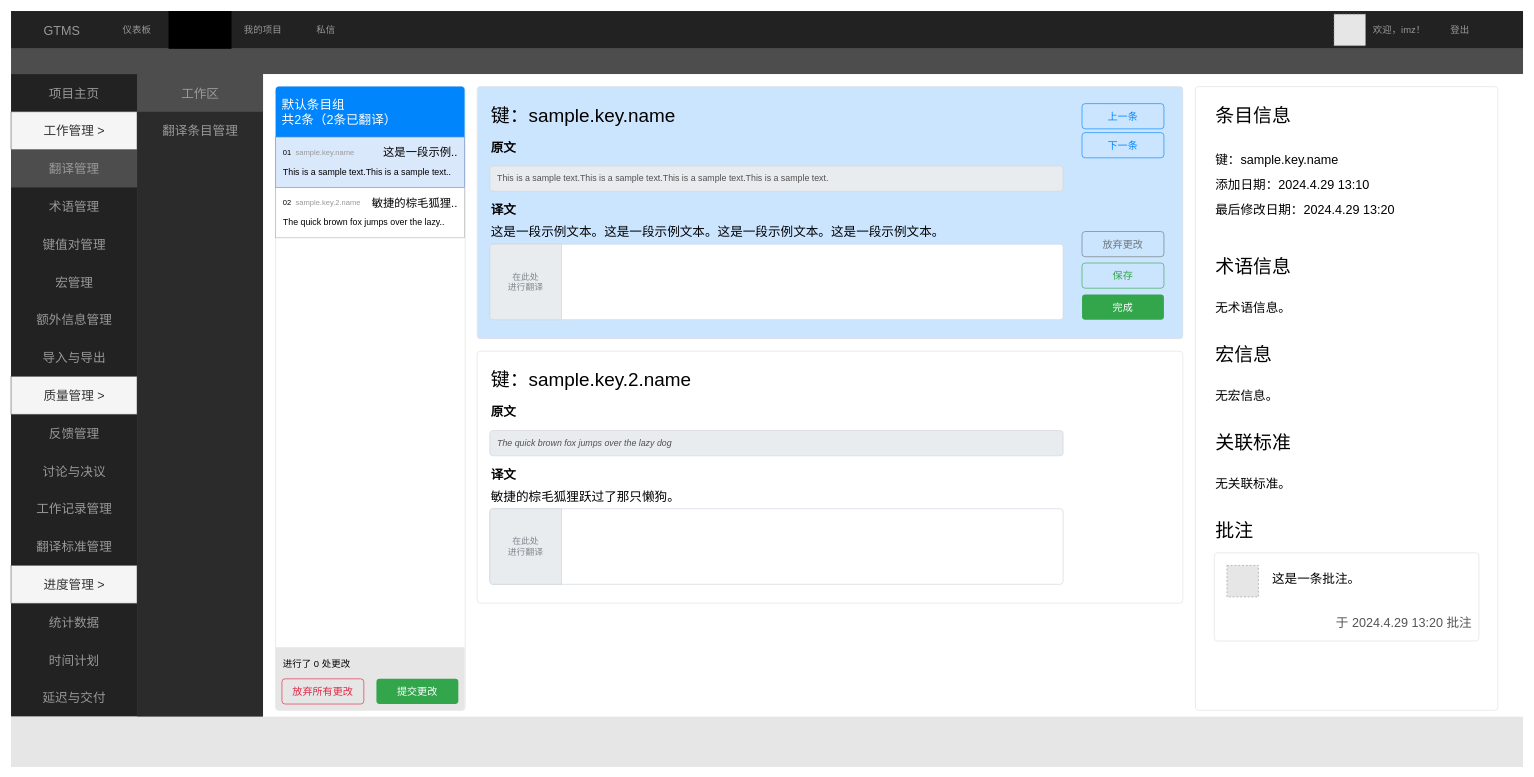
The diagram is 1534 pixels wide and 777 high, and some of its shapes have lost their labels. Grey dashed boxes stand in for pictures. The centre of each missing label's shape, as x and y in pixels:
Yifan Xu 毕业设计 @天津工业大学: the point at 767,741
示例中文化项目01 / 翻译管理 / 工作区: the point at 767,61
项目浏览: the point at 199,30
